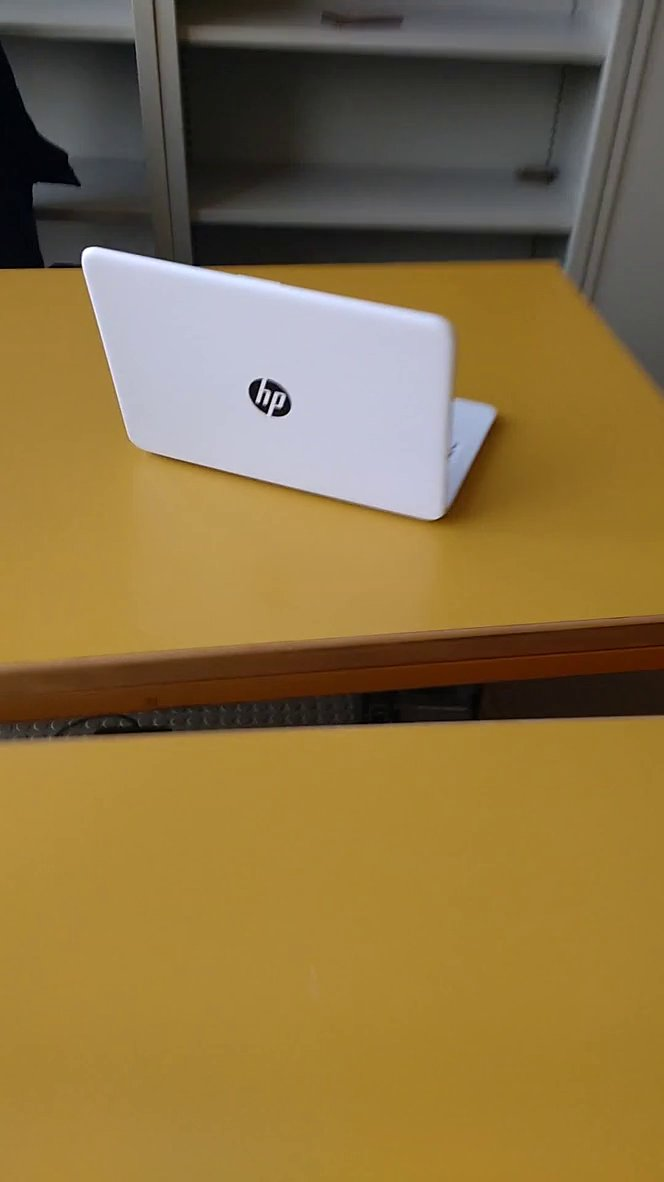laptop: (71, 236, 505, 533)
